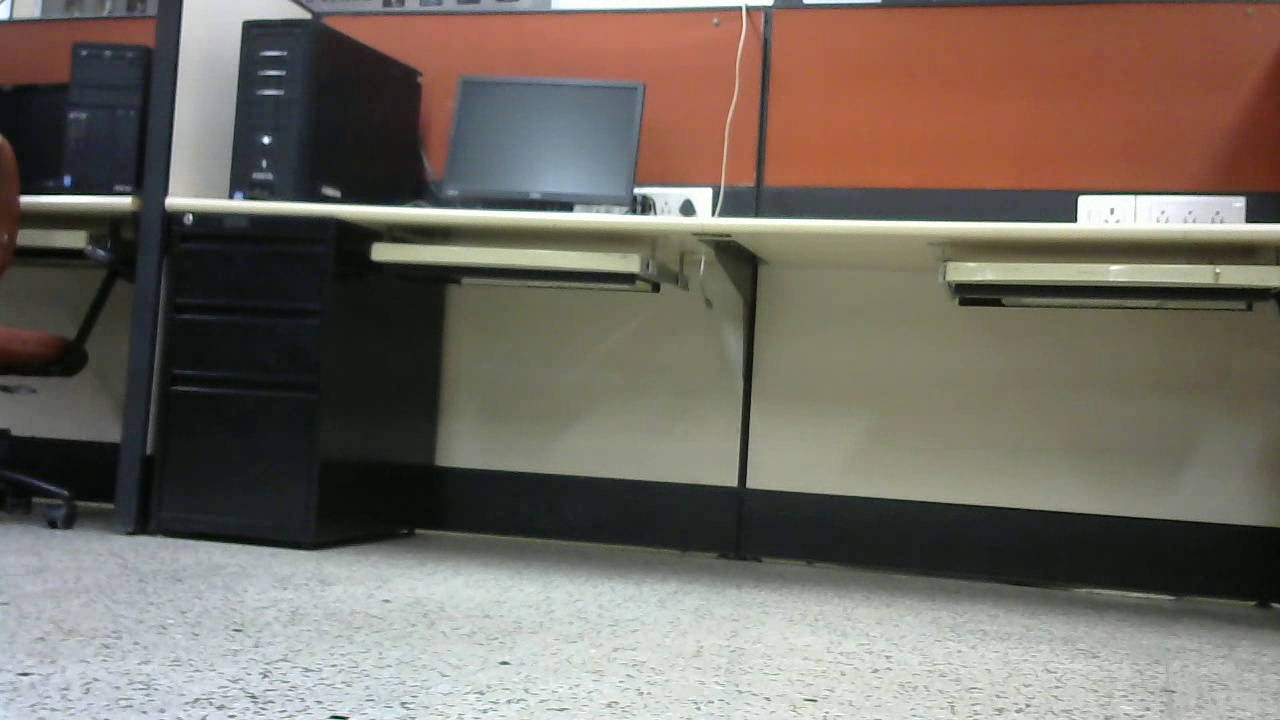chair: (1, 129, 125, 534)
